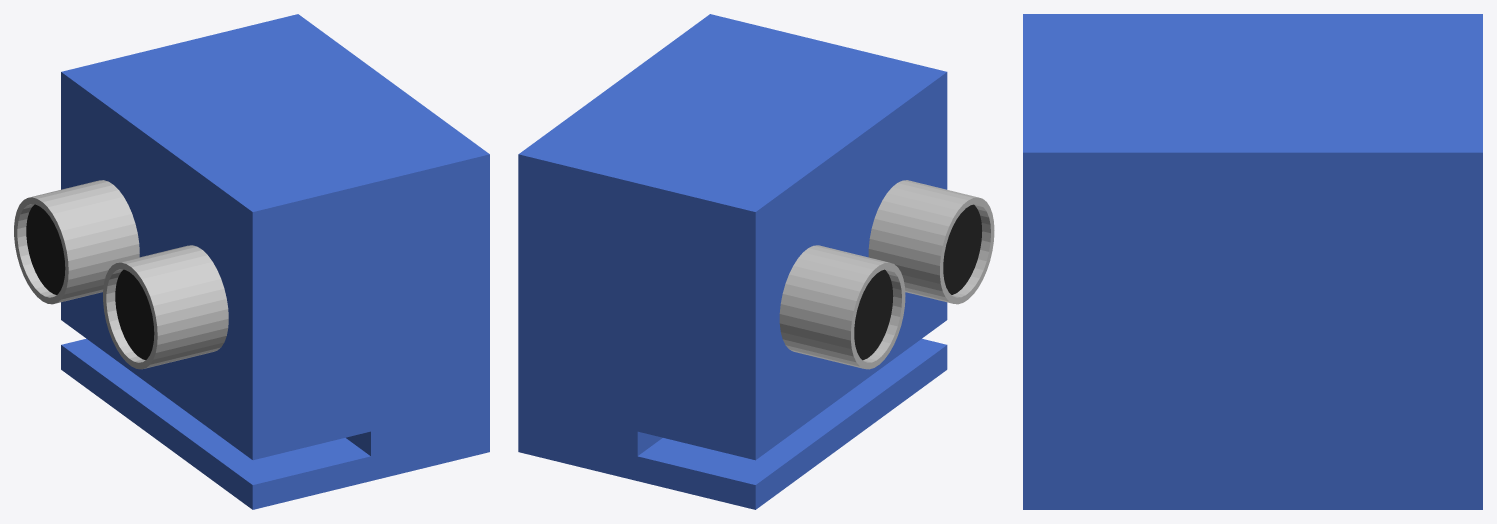
The model's file is sensor.obj.
The picture shows the model from 3 angles, left to right: view 1: azimuth 30°, elevation 25°; view 2: azimuth 150°, elevation 25°; view 3: azimuth 270°, elevation 25°; orthographic projection. The views are drawn at different scales.
Visible parts, largest first — view 1: b_sensor_body_001_, b_sensor_metal_detector_001_001, b_sensor_metal_detector_001_, b_sensor_cover_001_, b_sensor_cover_001_001; view 2: b_sensor_body_001_, b_sensor_metal_detector_001_, b_sensor_metal_detector_001_001, b_sensor_cover_001_001, b_sensor_cover_001_; view 3: b_sensor_body_001_.
Boxes of the visible parts, x1=… form: b_sensor_body_001_: x1=61, y1=14, x2=489, y2=509; b_sensor_metal_detector_001_001: x1=103, y1=245, x2=228, y2=369; b_sensor_metal_detector_001_: x1=14, y1=180, x2=139, y2=304; b_sensor_cover_001_: x1=115, y1=269, x2=154, y2=359; b_sensor_cover_001_001: x1=26, y1=204, x2=65, y2=294; b_sensor_body_001_: x1=518, y1=14, x2=947, y2=509; b_sensor_metal_detector_001_: x1=779, y1=245, x2=905, y2=369; b_sensor_metal_detector_001_001: x1=868, y1=180, x2=994, y2=304; b_sensor_cover_001_001: x1=854, y1=269, x2=893, y2=360; b_sensor_cover_001_: x1=943, y1=204, x2=982, y2=294; b_sensor_body_001_: x1=1023, y1=14, x2=1482, y2=509.
Size of the model in its own units: 52 by 48 by 56.
